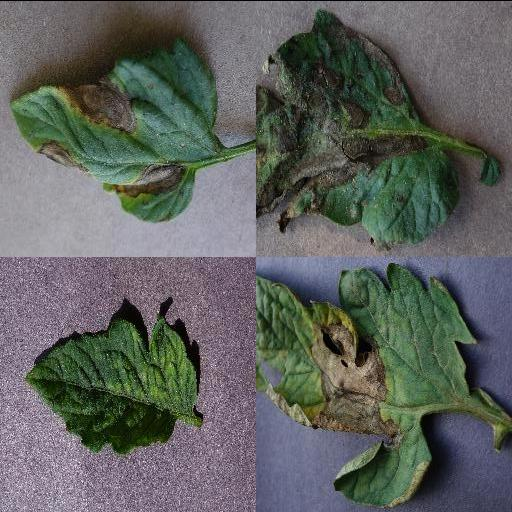Early Blight: (256, 10, 464, 245), (9, 38, 219, 222)
Late Blight: (256, 263, 478, 508)
Mosaic Virus: (24, 314, 198, 452)
